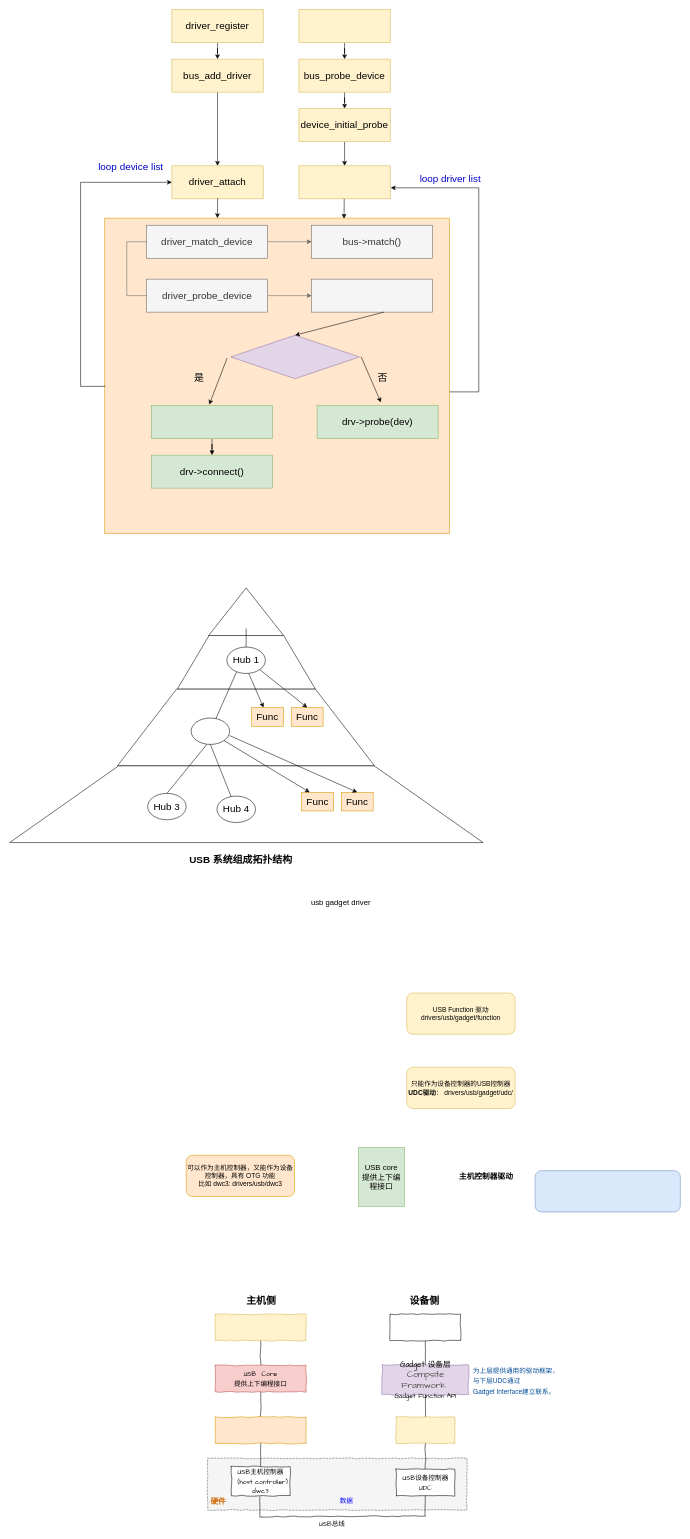
Some shapes in this 690 by 1539 pixel diagram are drawn without their labels. Each missing label, with the box of its shape:
bus->probe(dev): (151, 405, 273, 439)
dev->bus->probe 存在: (230, 335, 359, 379)
device_add: (298, 9, 390, 43)
device_attach: (298, 165, 390, 199)
dw3 的 gadget driver 层 (负责驱动硬件工作) ： drivers/usb/dwc3/gadget.c: (535, 1170, 680, 1212)
Host root hub: (208, 587, 284, 636)
Hub 2: (191, 717, 230, 744)
really_probe: (311, 279, 433, 312)
USB 主机控制器驱动 XHCI/EHCI/OHCI/UHCI: (215, 1417, 306, 1443)
USB设备驱动: (215, 1314, 306, 1341)
设备功能驱动 Function driver: (390, 1314, 461, 1341)
设备控制器驱动 （UDC驱动）: (395, 1417, 455, 1443)
